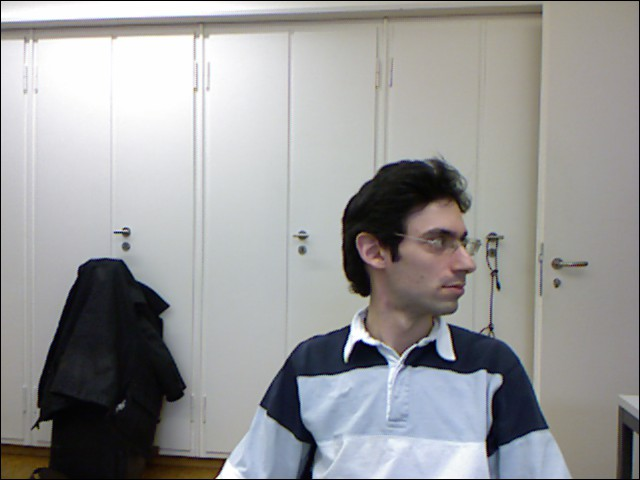deflection: (264, 159, 505, 480)
